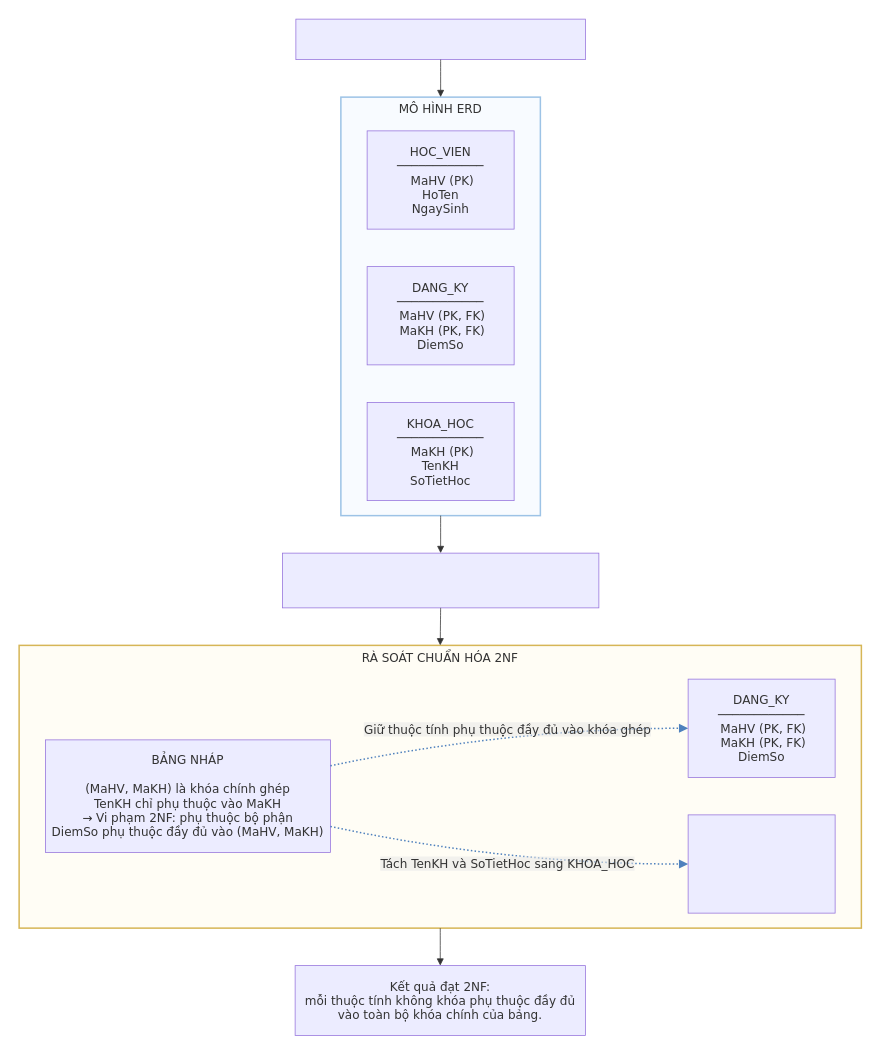
This 875x1049 diagram has some shape labels left out. Each missing label, with the centre of its shape:
"ERD QUẢN LÝ ĐĂNG KÝ KHÓA HỌC EDUSMART" belongs at pixel 440 39.
"KHOA_HOC ──────────── 🔑 MaKH (PK) TenKH SoTietHoc" belongs at pixel 761 863.
"Quan hệ N-N được chuyển thành hai quan hệ 1-N qua thực thể trung gian DANG_KY" belongs at pixel 440 580.
